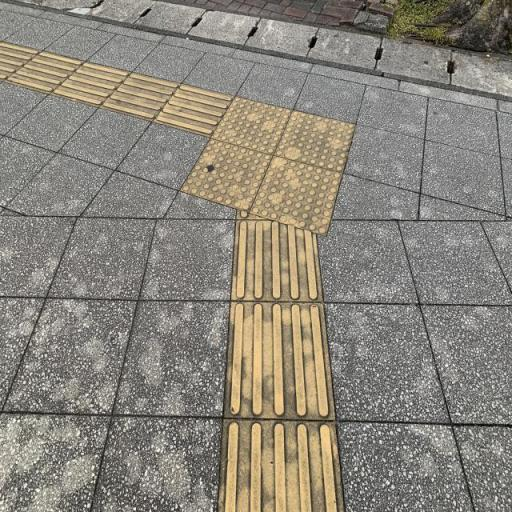dot: (250, 153, 345, 237), (178, 138, 273, 213), (273, 110, 355, 173), (211, 97, 292, 156)
line: (226, 301, 337, 418), (218, 418, 344, 511), (230, 218, 322, 303), (152, 83, 237, 137), (100, 72, 180, 120), (48, 61, 131, 106), (4, 51, 85, 93)
